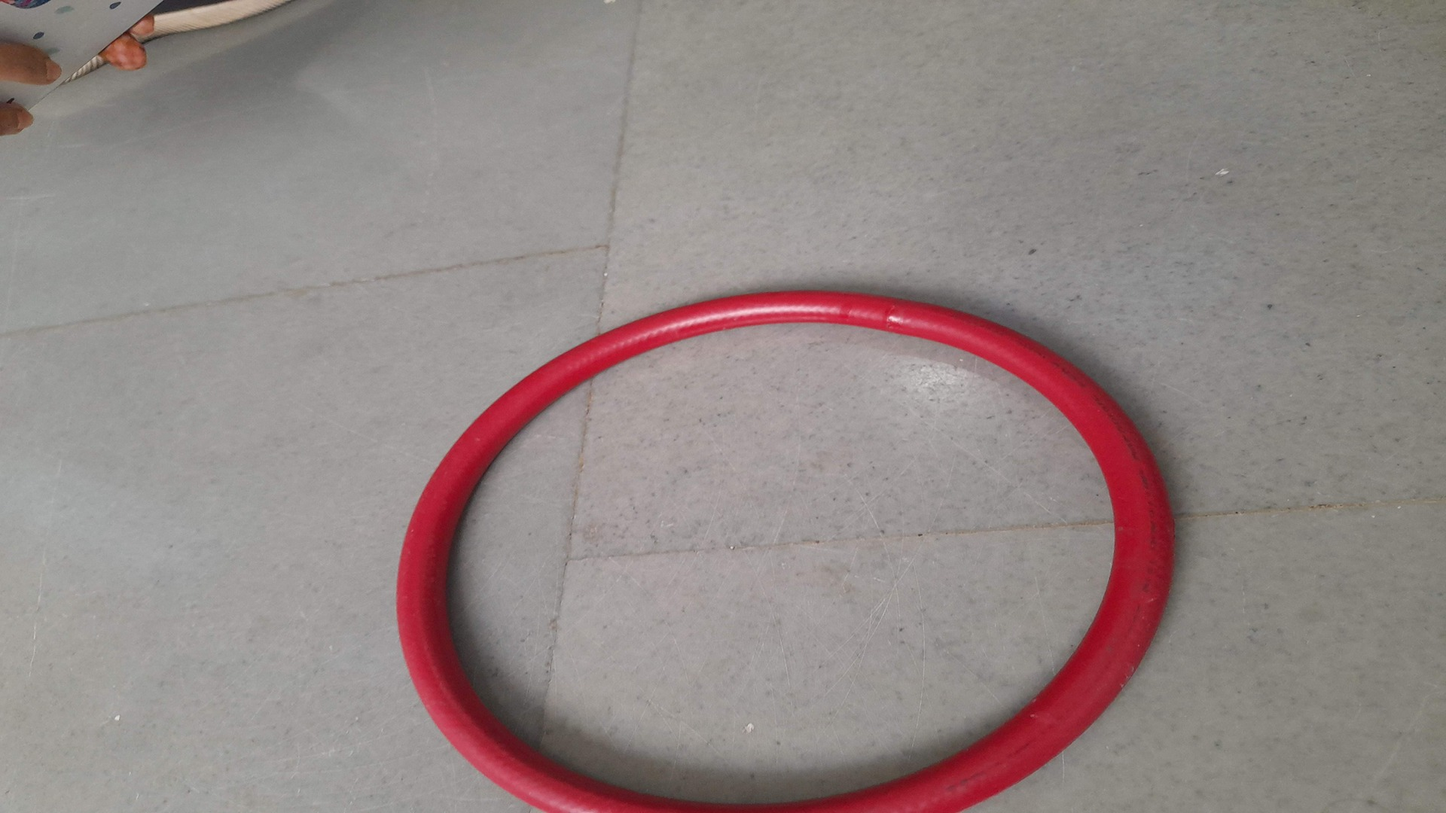Red ring: (393, 290, 1176, 813)
